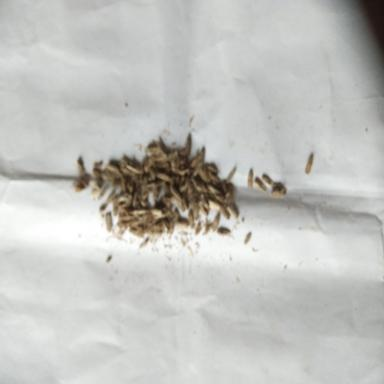pbw: (91, 178, 103, 196), (162, 150, 178, 163), (199, 166, 211, 183), (226, 166, 237, 184), (140, 177, 149, 199), (207, 183, 222, 196), (156, 141, 168, 157), (98, 184, 110, 200), (211, 212, 221, 231), (191, 176, 202, 192), (223, 183, 232, 202), (169, 186, 181, 200), (254, 177, 266, 191), (227, 204, 238, 219), (191, 150, 200, 168), (200, 194, 210, 210), (208, 199, 221, 211), (102, 171, 119, 180), (220, 204, 230, 219), (208, 170, 220, 182), (193, 162, 202, 178), (147, 152, 156, 168), (155, 161, 171, 170), (117, 219, 133, 228), (306, 156, 314, 174), (146, 145, 160, 155), (106, 190, 116, 204), (127, 164, 141, 174), (161, 194, 171, 208), (162, 182, 172, 196), (156, 172, 170, 182), (199, 201, 208, 216), (129, 228, 144, 237), (186, 175, 193, 194), (188, 209, 195, 228), (127, 176, 134, 195), (247, 168, 253, 190), (197, 147, 205, 163), (192, 204, 200, 220), (119, 174, 126, 192), (271, 188, 285, 197), (172, 166, 186, 175), (216, 226, 230, 235), (207, 164, 218, 175), (112, 196, 118, 216), (118, 204, 128, 216), (153, 186, 161, 201), (185, 132, 191, 152), (167, 218, 173, 238), (130, 209, 147, 216), (152, 182, 166, 190), (130, 220, 144, 228), (142, 182, 156, 190), (177, 198, 185, 212), (121, 167, 135, 175), (262, 174, 273, 184), (177, 217, 189, 226), (179, 180, 188, 192), (106, 164, 118, 173), (118, 194, 130, 203), (150, 208, 163, 216), (195, 221, 203, 234), (106, 213, 112, 230), (92, 167, 102, 177), (214, 194, 225, 203), (150, 226, 164, 233), (118, 215, 132, 222), (80, 176, 88, 188), (244, 233, 252, 244), (173, 207, 179, 221), (135, 176, 141, 190), (149, 168, 156, 180), (271, 181, 283, 188), (205, 222, 212, 234), (178, 149, 190, 156), (77, 160, 84, 172), (133, 192, 138, 208)
